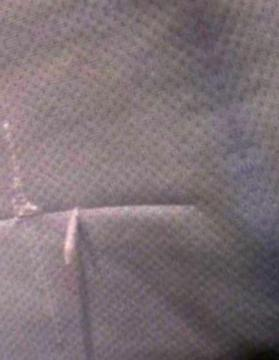snag: (46, 198, 98, 274)
